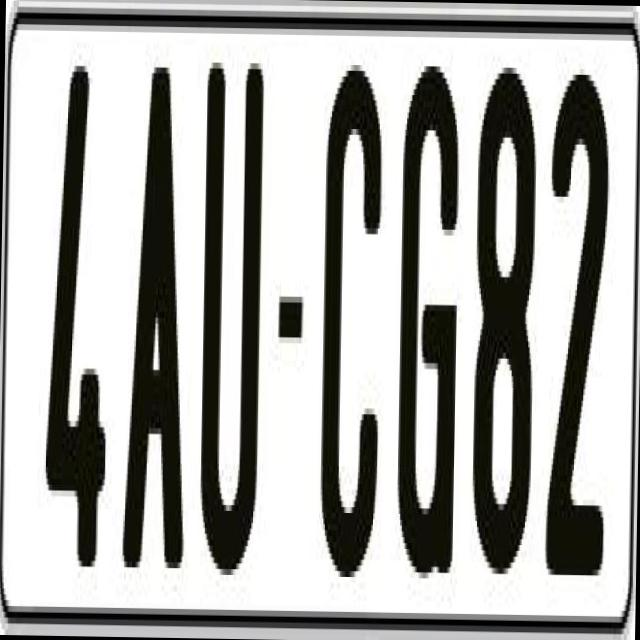2: (541, 68, 617, 587)
4: (42, 48, 120, 578)
8: (469, 49, 542, 568)
A: (118, 66, 192, 580)
C: (318, 64, 391, 600)
G: (396, 60, 468, 567)
U: (196, 50, 264, 581)
